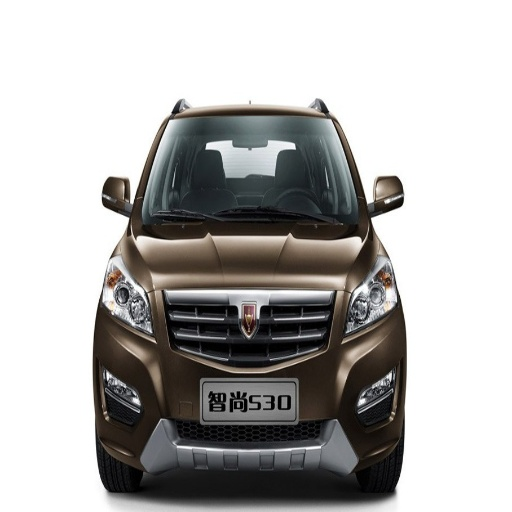front_bumper: (96, 292, 404, 473)
front_right_light: (102, 256, 154, 338)
hood: (129, 221, 376, 347)
left_mirror: (370, 176, 405, 217)
